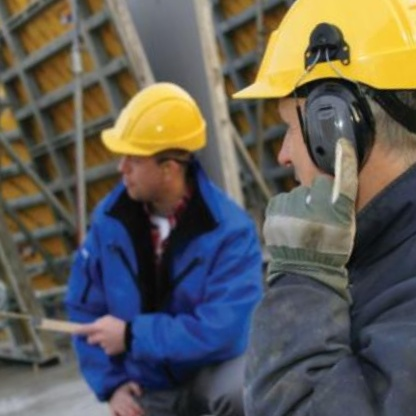yellow: (208, 0, 416, 145), (87, 70, 217, 169)
